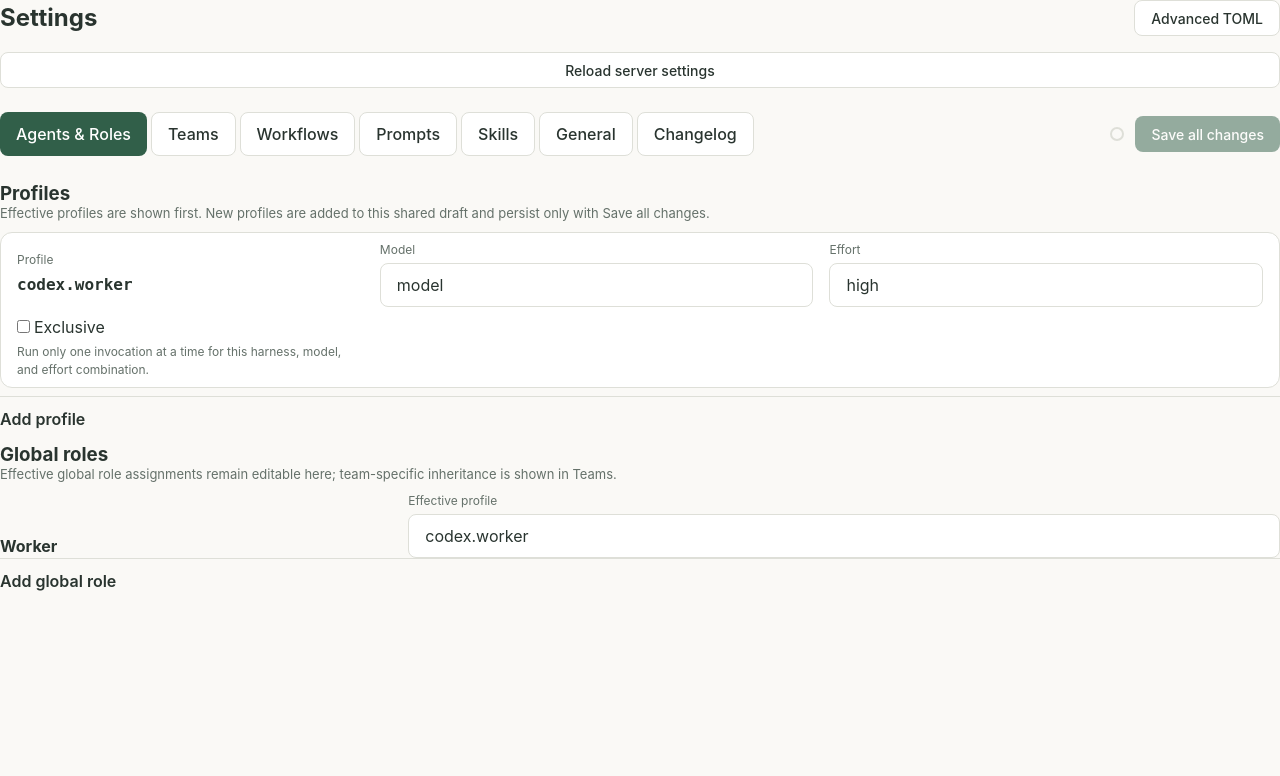
Test: GlobalSettings › keeps one default workflow selector in General and links to it from Workflows
Click the tab "Workflows".
click(297, 134)  # box [240,112,355,156]
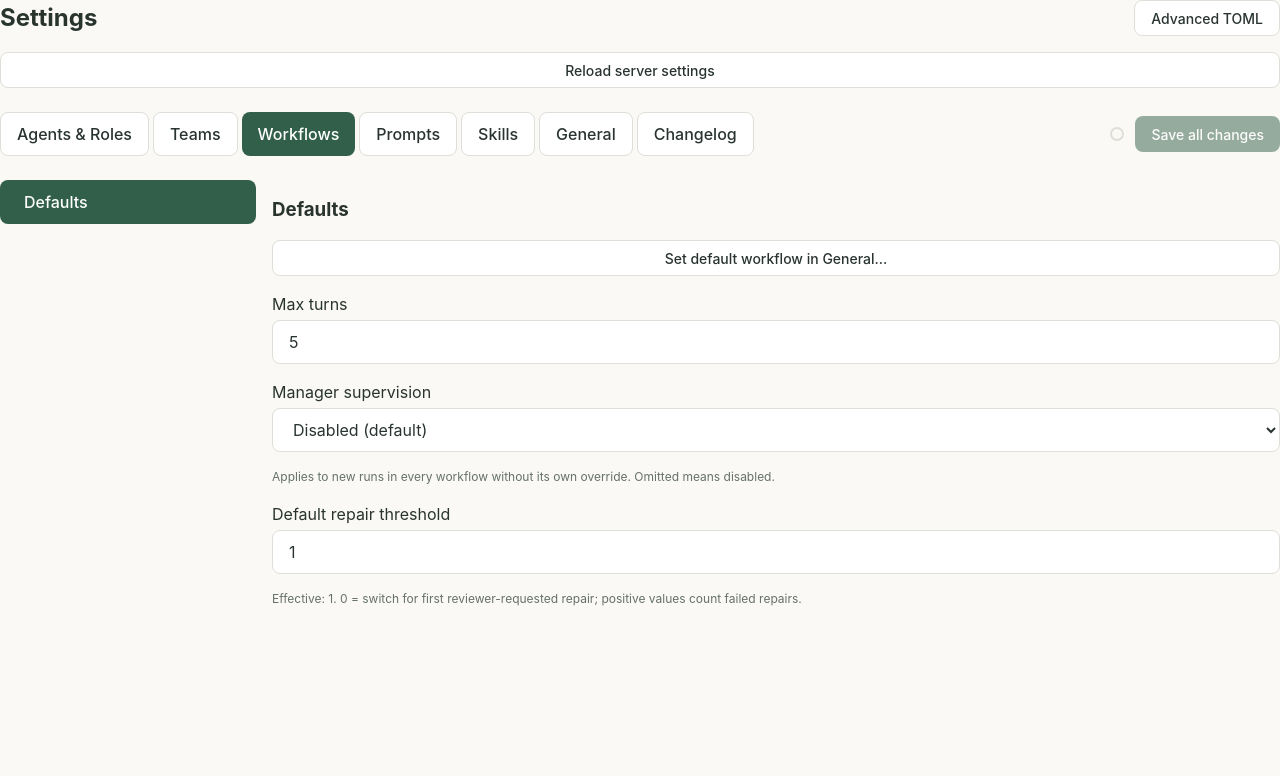
Click the button "Set default workflow in General…".
click(776, 258)  # box [272,240,1279,276]
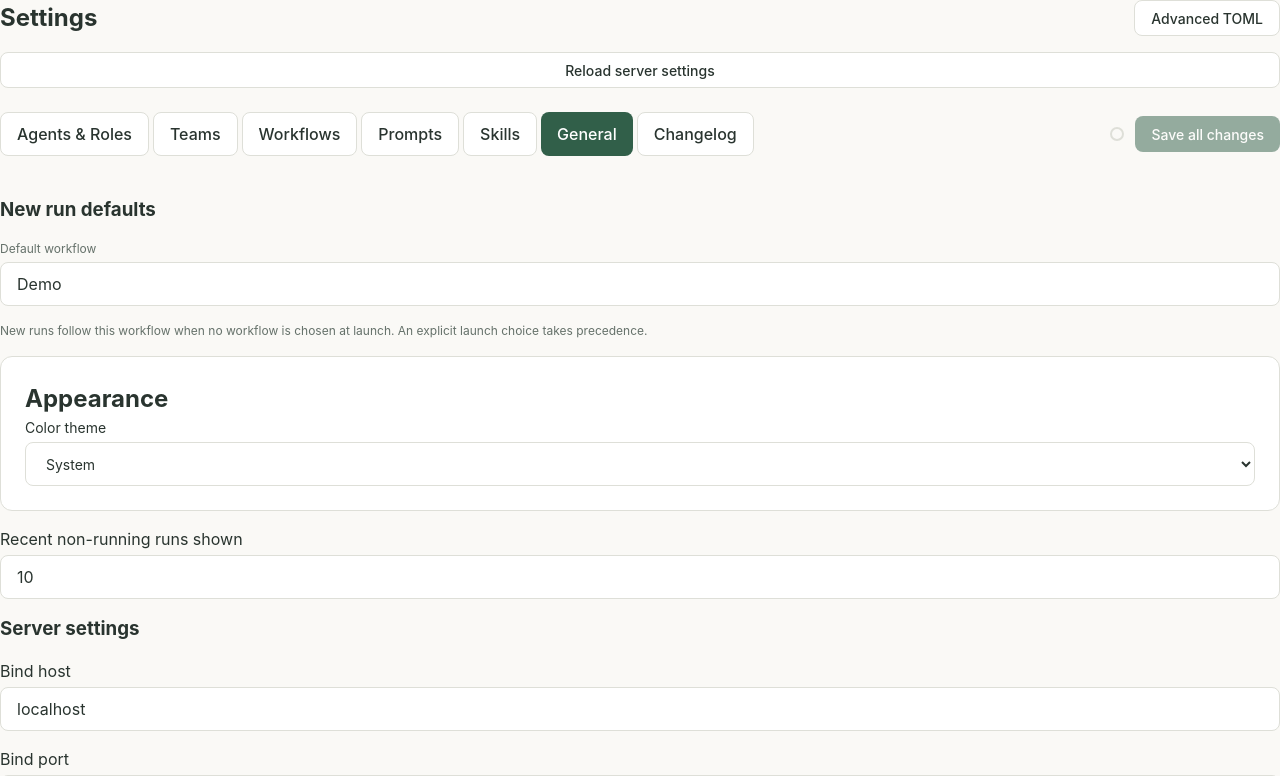
expect the dropdown labelled "Default workflow" is shown: met, box [0,262,1279,306]
